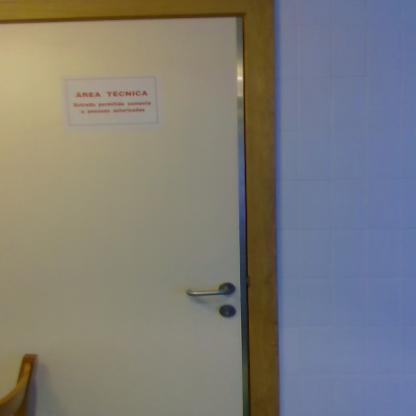door: (0, 20, 247, 415), (184, 288, 234, 298)
